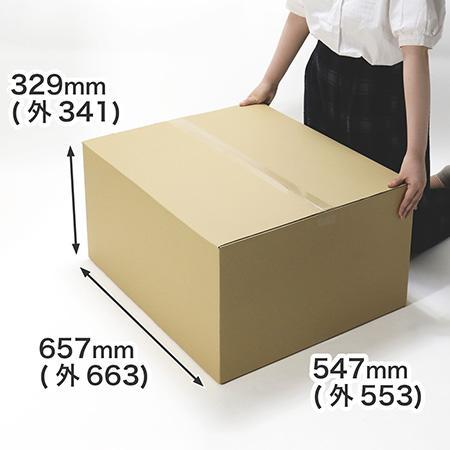box: (71, 99, 425, 386)
